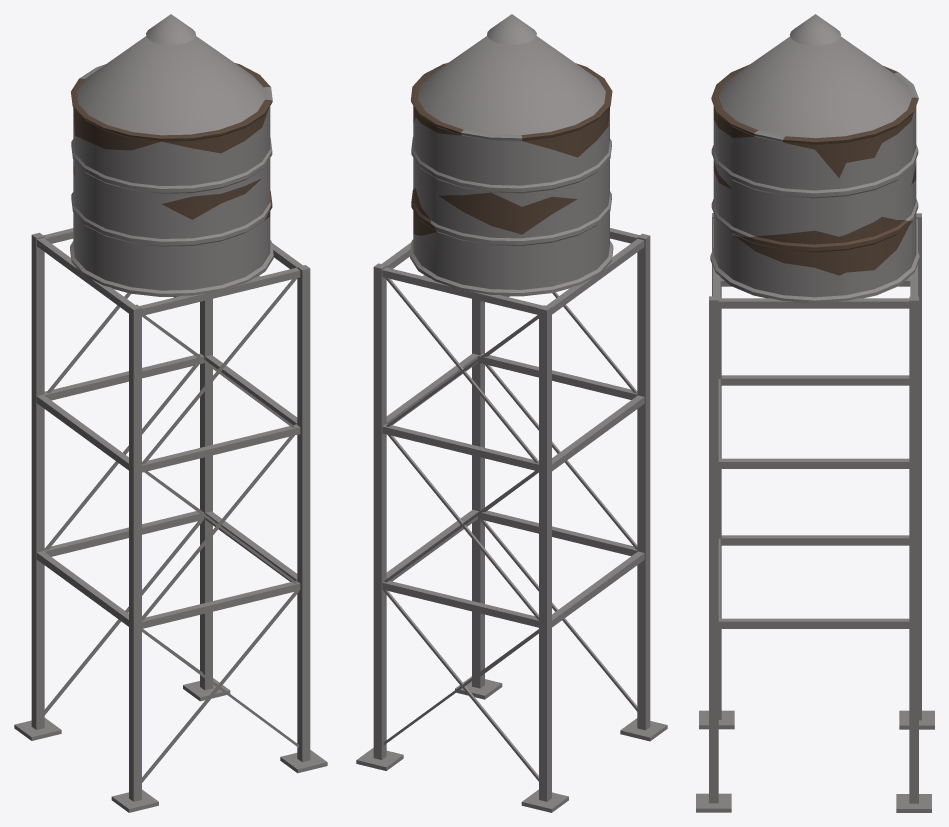
Rendered from water_tower.glb.
3 renders of one model, left to right at view 1: azimuth 30°, elevation 25°; view 2: azimuth 150°, elevation 25°; view 3: azimuth 270°, elevation 25°, orthographic. The views are drawn at different scales.
Visible parts, largest first — view 1: WaterTower; view 2: WaterTower; view 3: WaterTower.
Boxes of the visible parts, box(x1,y1,x2,y2) form: WaterTower: box(14, 14, 327, 812); WaterTower: box(356, 14, 667, 812); WaterTower: box(696, 14, 934, 812).
Bounding box in the file's own units: 2.65 × 9.38 × 2.71.
1 material, 1 textured.
